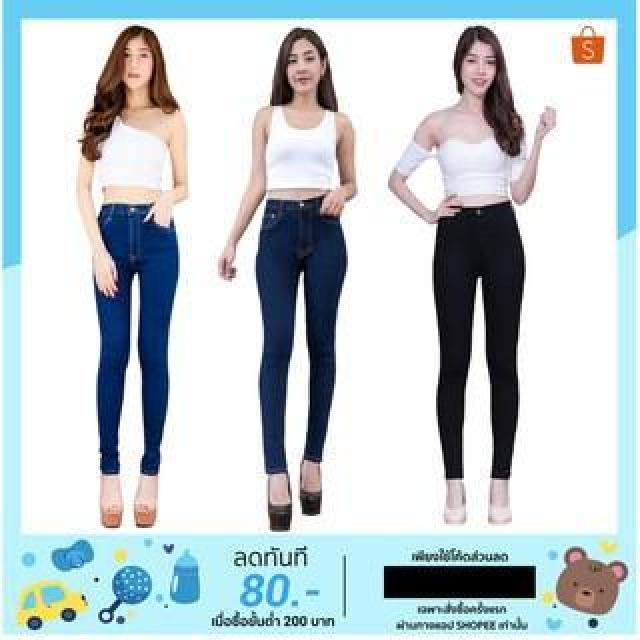pants: (429, 197, 529, 481), (256, 195, 350, 473), (85, 203, 179, 473)
